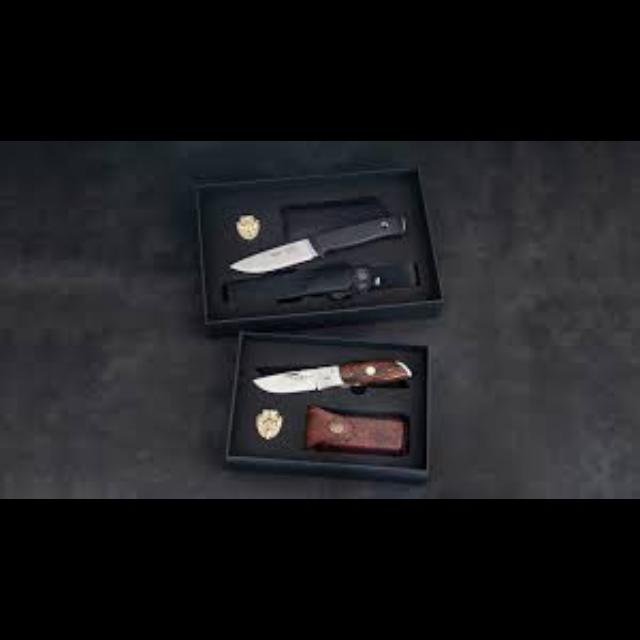Knife: (228, 212, 406, 272), (252, 359, 412, 393)
